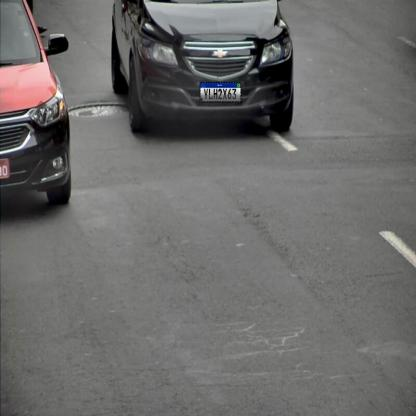PlacaM: (200, 82, 241, 102)
